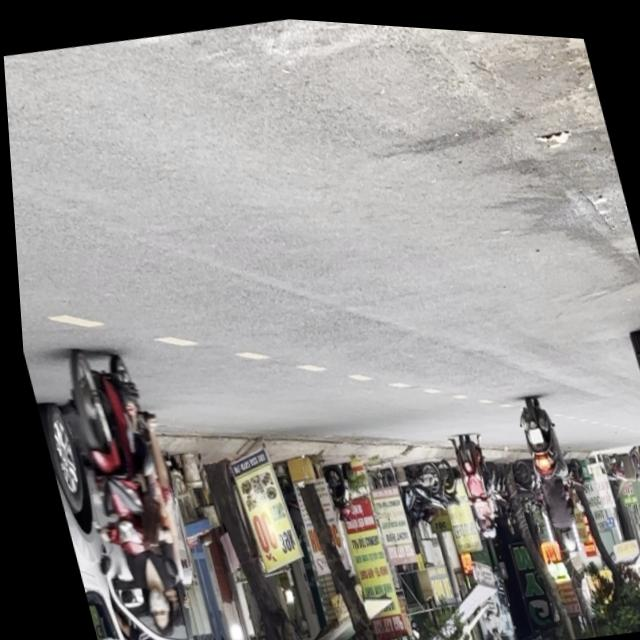licenseplate: (41, 332, 204, 640)
motorcyclist: (130, 574, 173, 637)
